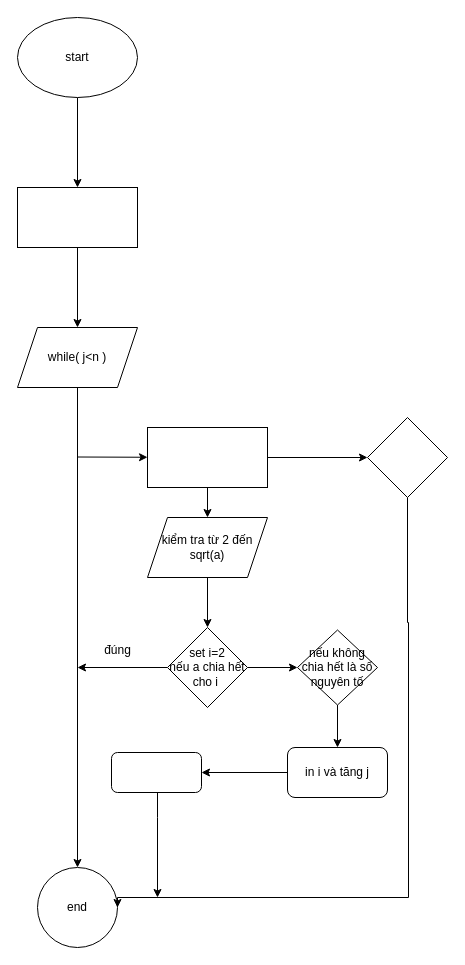
Some shapes in this 465 by 965 pixel diagram are drawn without their labels. The centre of each missing label's shape, as x and y in pixels:
if a<=1: pixel 407 457
khai báo hàm kiểm tra số nguyên tố: pixel 207 457
khởi tạo biến j=0;i=2: pixel 77 217
tăng i: pixel 156 772
